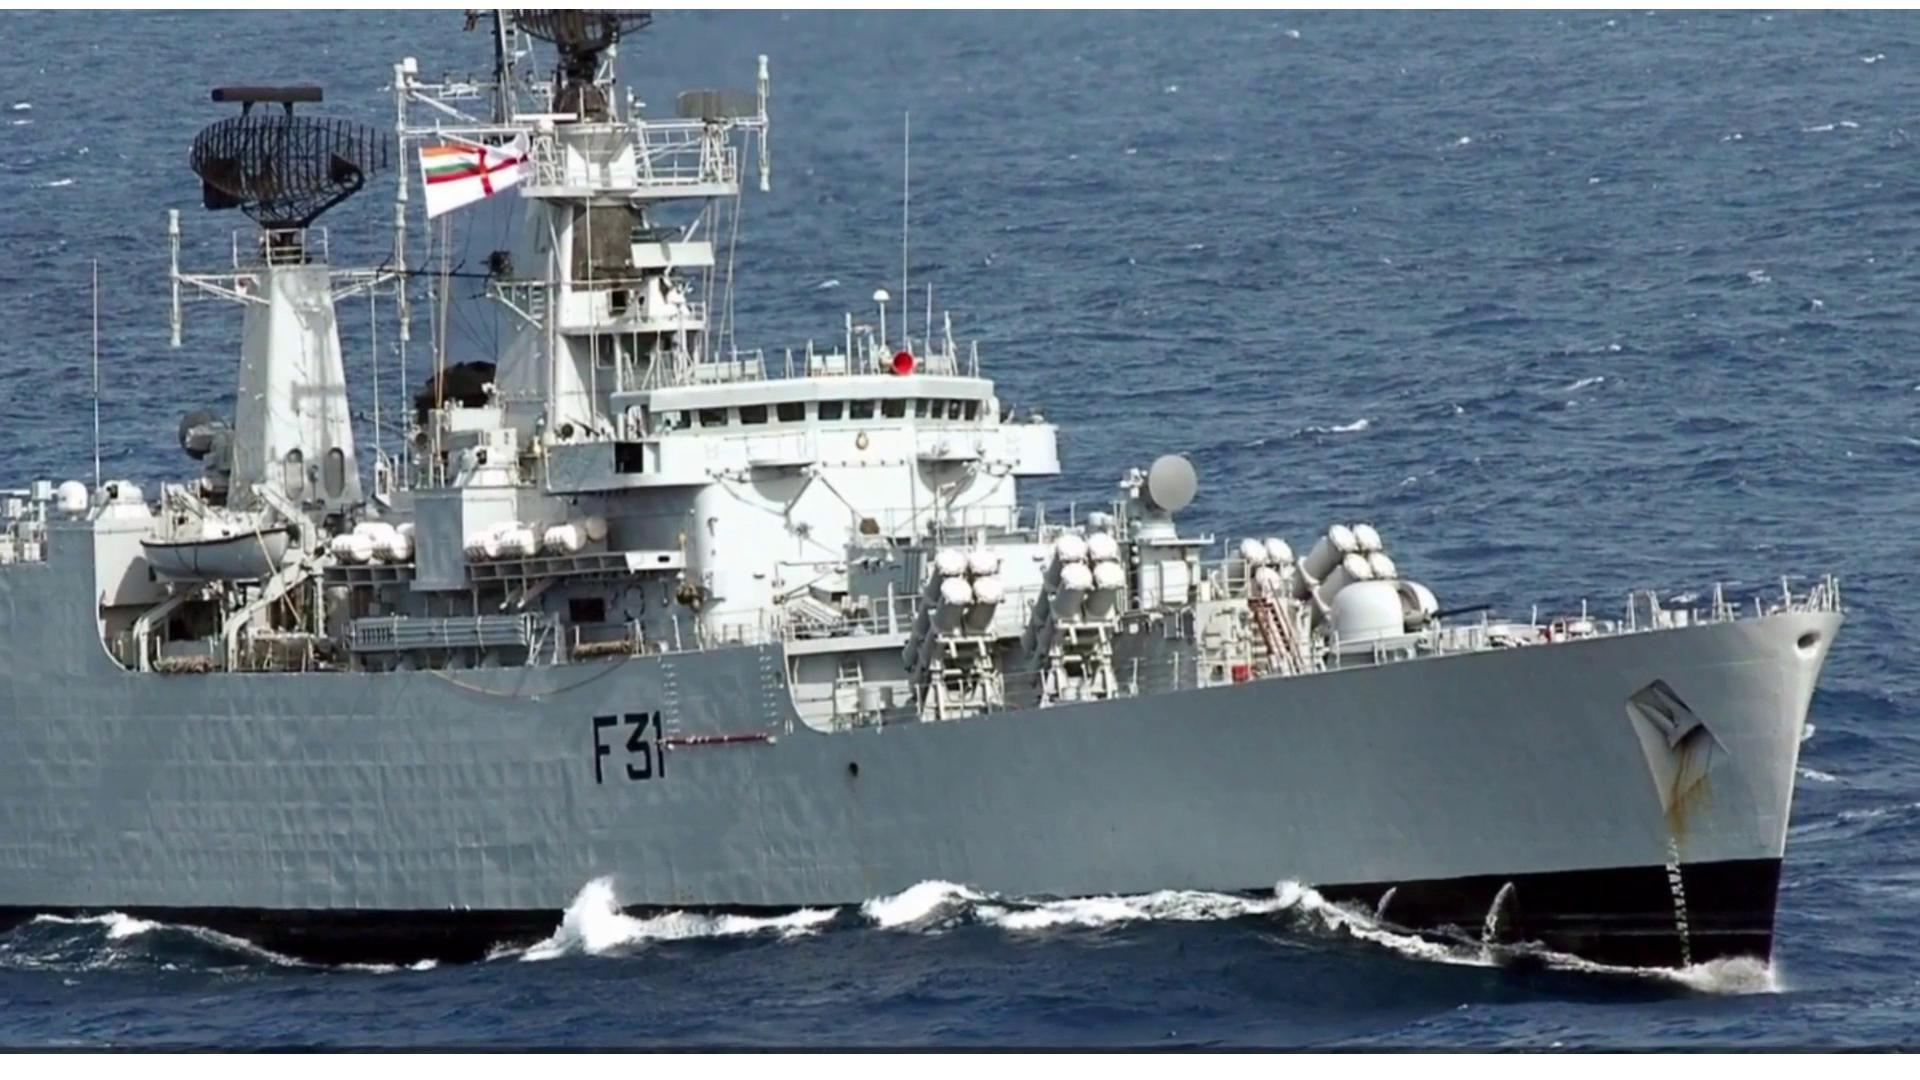OCR: (570, 690, 668, 790)
